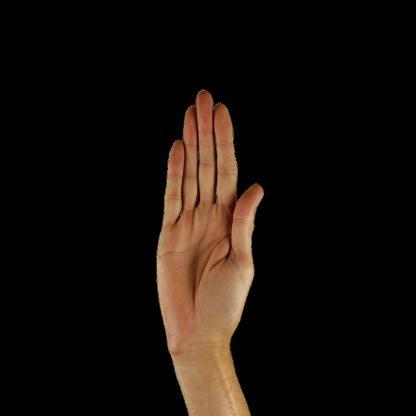stop: (158, 85, 263, 356)
